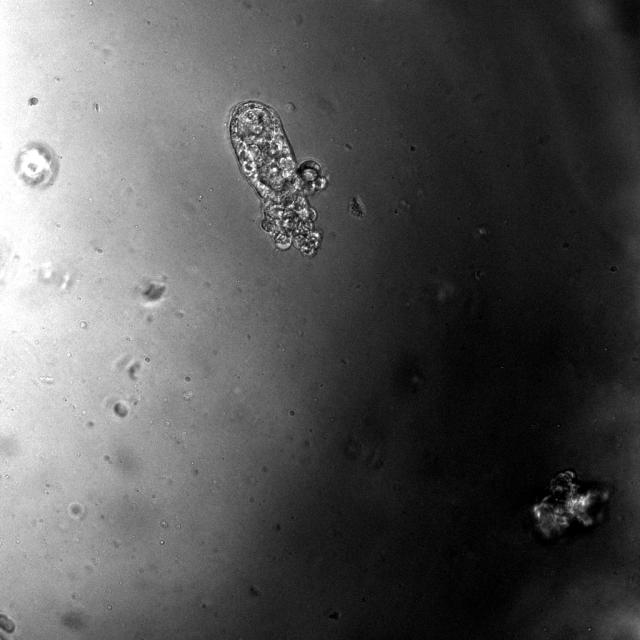organoid: (229, 101, 327, 256), (532, 468, 608, 539), (13, 140, 61, 189), (142, 281, 166, 301), (0, 612, 16, 639), (349, 195, 366, 217), (114, 401, 128, 417)
